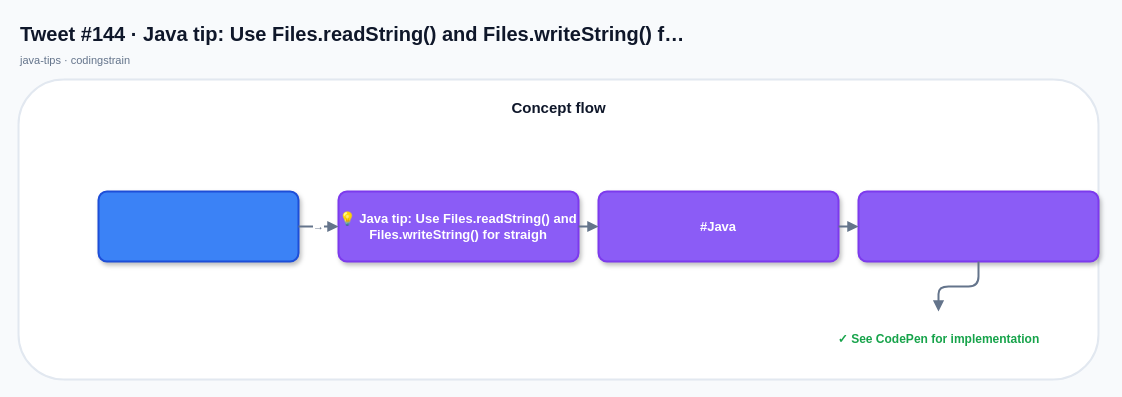
The diagram is 1122 pixels wide and 397 high, and some of its shapes have lost their labels. The centre of each missing label's shape, as x and y in pixels:
"Problem / context" goes at pixel 199 227.
"Runnable sample: `java-tips`" goes at pixel 979 227.
